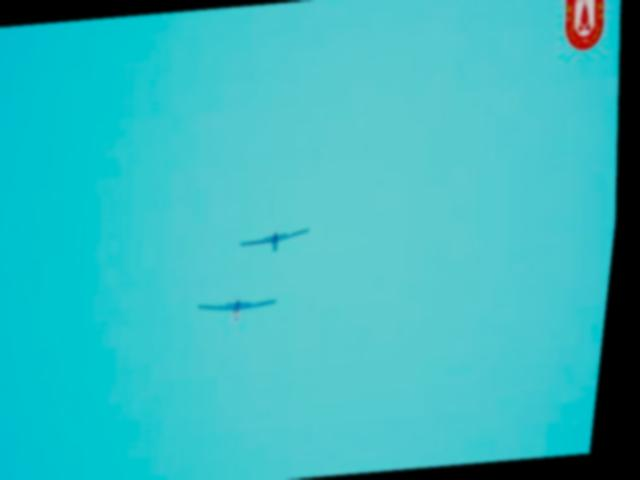uav: (239, 223, 319, 257), (202, 294, 287, 322)
